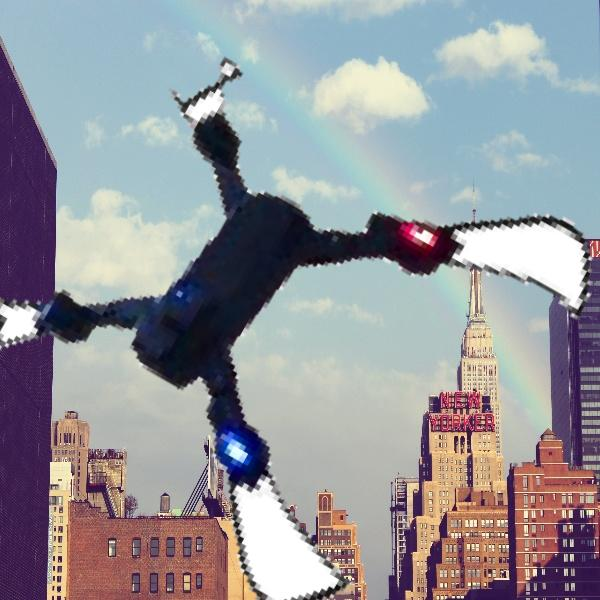drone: (9, 52, 551, 594)
